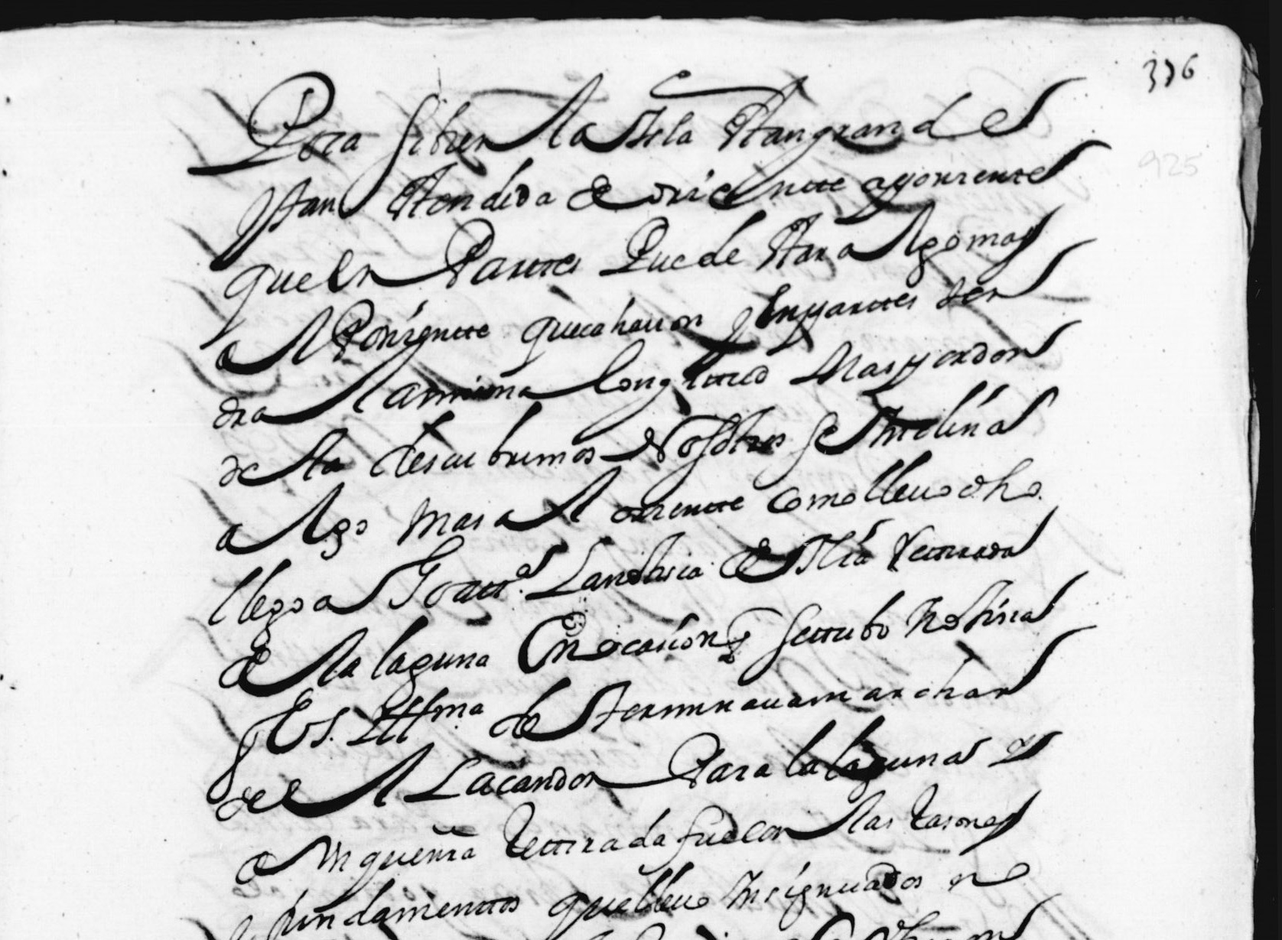lacandon: (403, 756, 650, 802)
